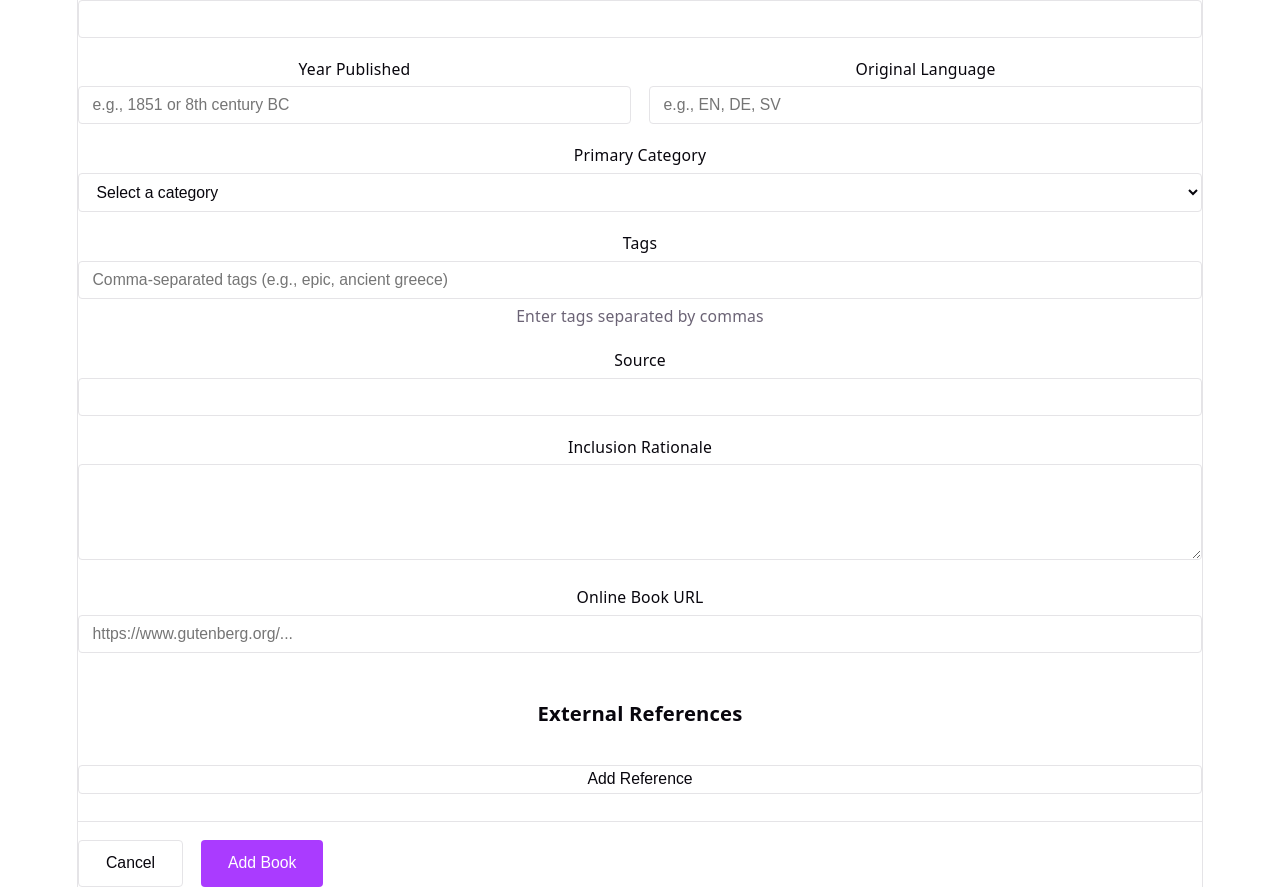
Test case: AddBookForm › External References › should allow removing external references
(page scrolled)
# Add a reference
Click the button "Add Reference" at (640, 779), box [78, 765, 1202, 794]
(page scrolled)
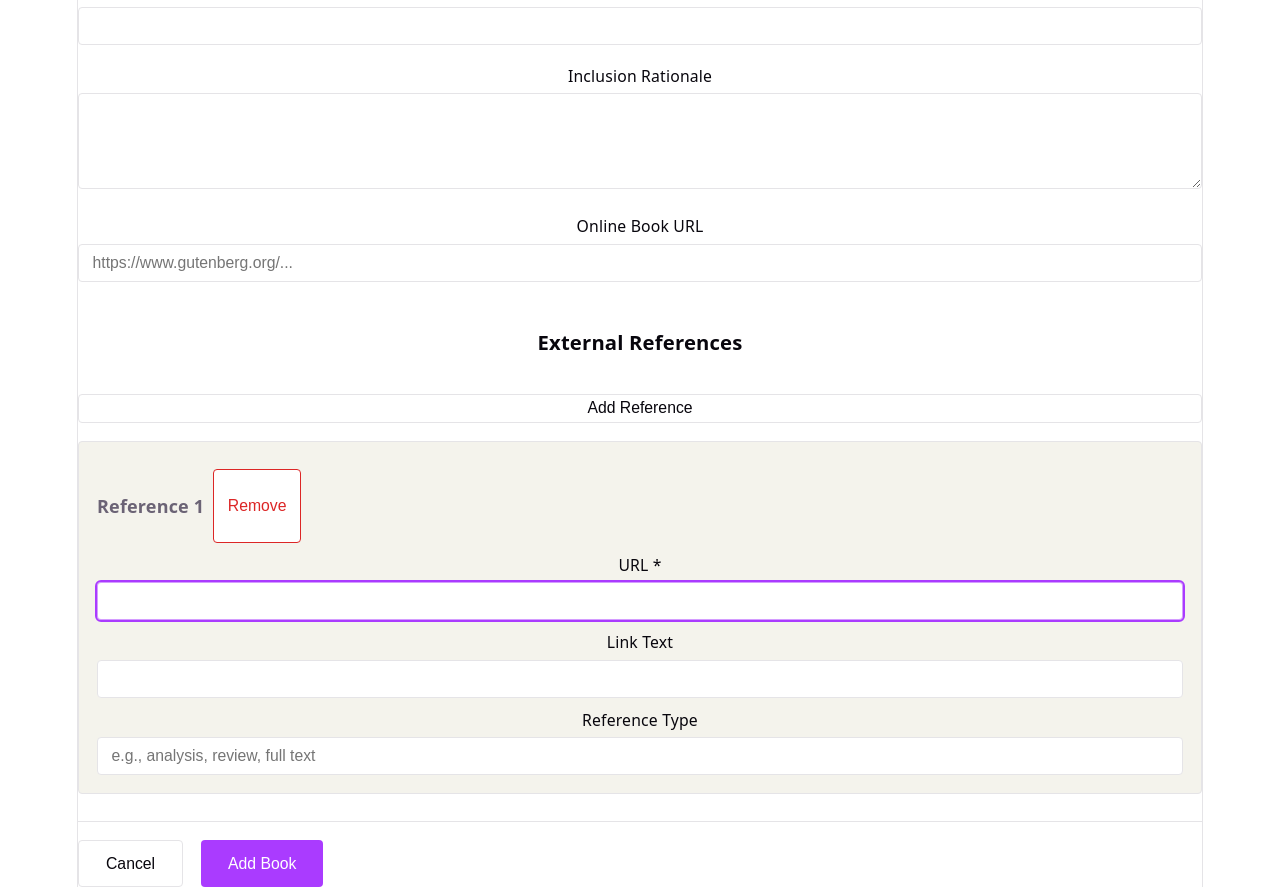
# Remove the reference
Click the button "Remove" at (257, 506), box [213, 469, 301, 543]
(page scrolled)
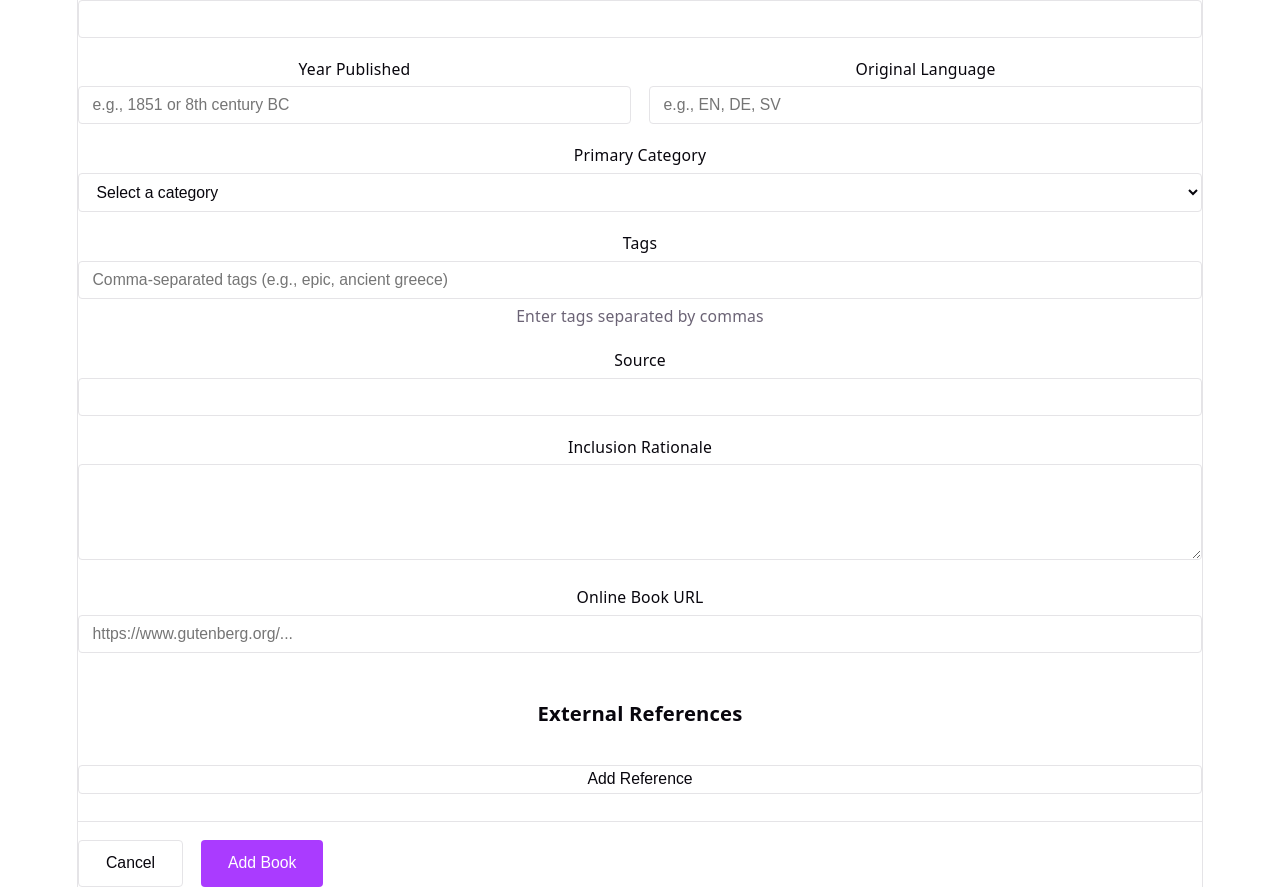
Expected: the field labelled "Online Book URL" is shown, [78, 615, 1202, 653]
Result: the label labelled "URL *" is gone
